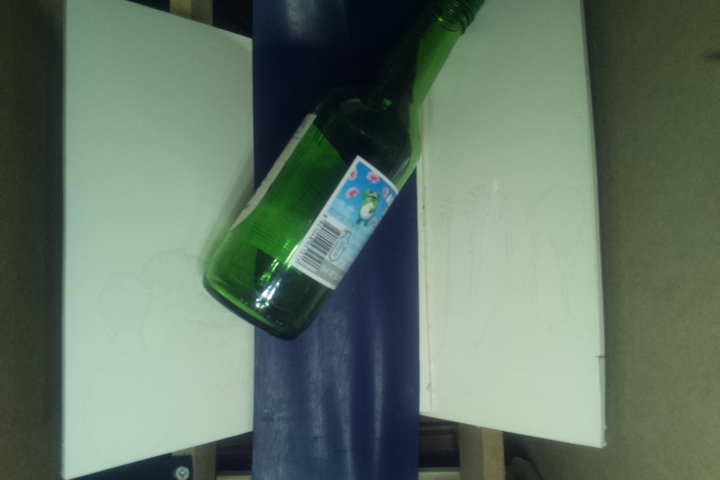soju: (203, 1, 484, 336)
